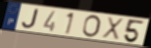1: (64, 12, 75, 36)
4: (43, 10, 57, 32)
5: (122, 18, 146, 44)
J: (21, 8, 40, 30)
O: (81, 14, 102, 39)
X: (101, 16, 126, 42)
